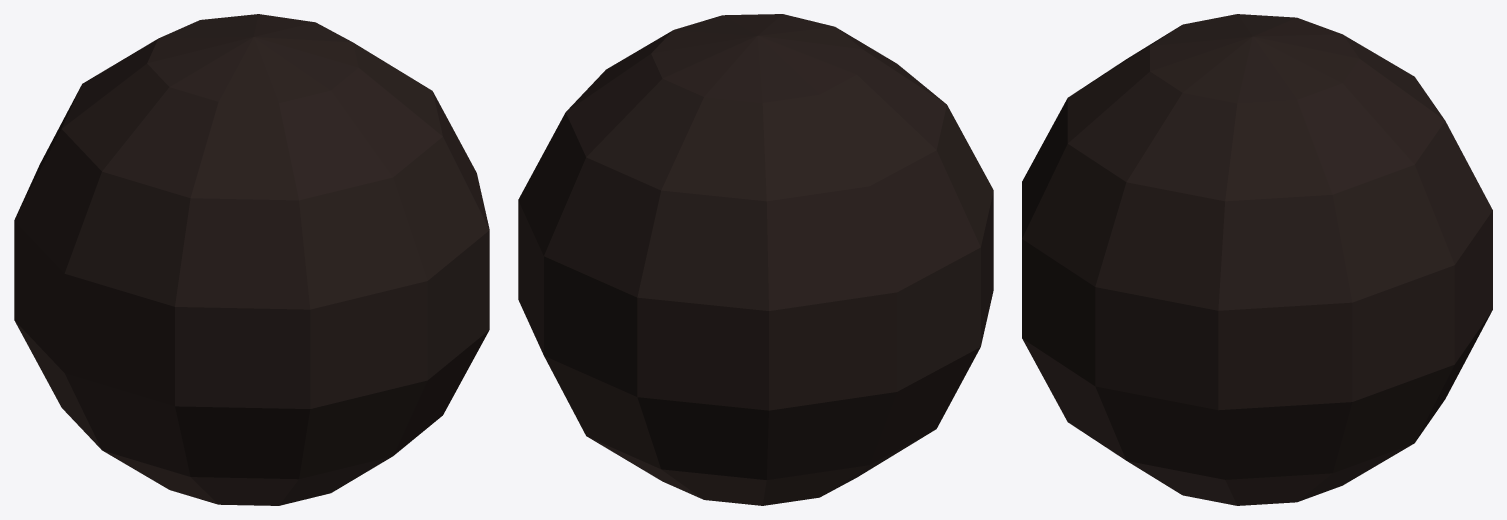
The model's file is cannonBall.glb.
The picture shows the model from 3 angles, left to right: view 1: azimuth 30°, elevation 25°; view 2: azimuth 150°, elevation 25°; view 3: azimuth 270°, elevation 25°; orthographic projection.
Visible parts, largest first — view 1: Sphere; view 2: Sphere; view 3: Sphere.
Part boxes in pixels (x1,y1,x2,y2): Sphere: [14, 14, 489, 505]; Sphere: [518, 14, 993, 505]; Sphere: [1022, 14, 1492, 505].
Bounding box in the file's own units: 1.93 × 2 × 1.91.
Materials: 1 (1 with a texture image).
